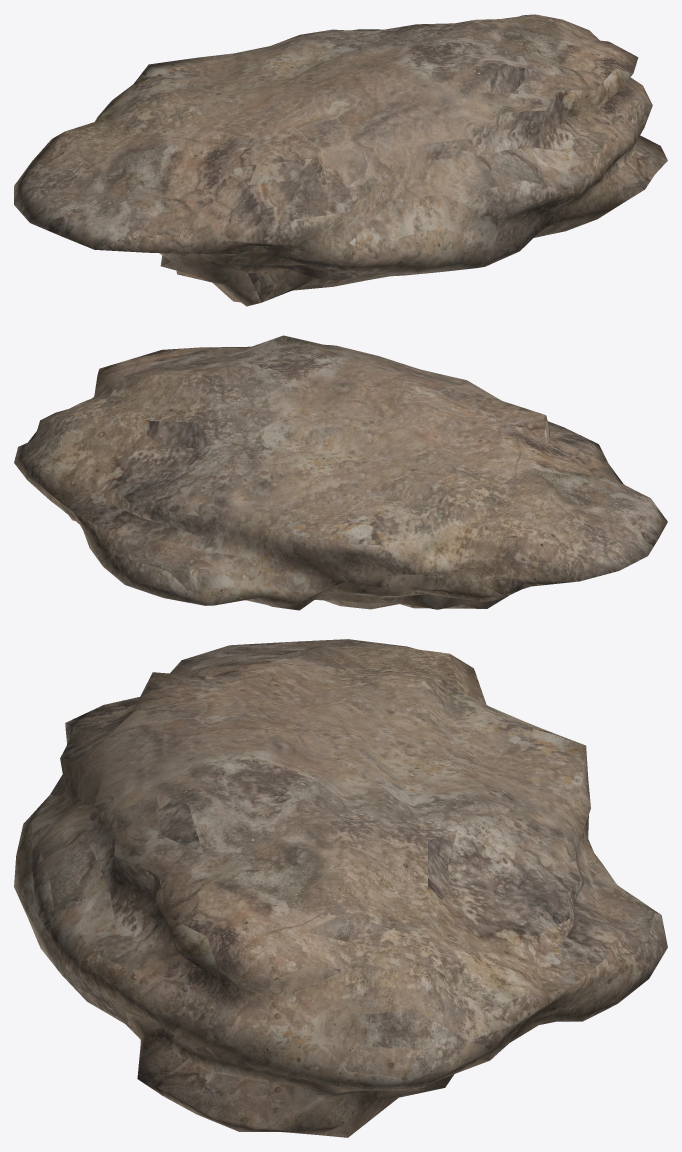
Rendered from rock_boulder_b.glb.
The picture shows the model from 3 angles, top to bottom: view 1: azimuth 30°, elevation 25°; view 2: azimuth 150°, elevation 25°; view 3: azimuth 270°, elevation 25°; orthographic projection. The views are drawn at different scales.
Parts seen in each view (by area): view 1: rock_boulder_b; view 2: rock_boulder_b; view 3: rock_boulder_b.
Boxes of the visible parts, x1,y1,x2,y2 form: rock_boulder_b: (14, 14, 667, 306); rock_boulder_b: (14, 335, 667, 610); rock_boulder_b: (14, 639, 667, 1137).
Size of the model in its own units: 2.51 by 0.7381 by 1.69.
Materials: 1 (1 with a texture image).
